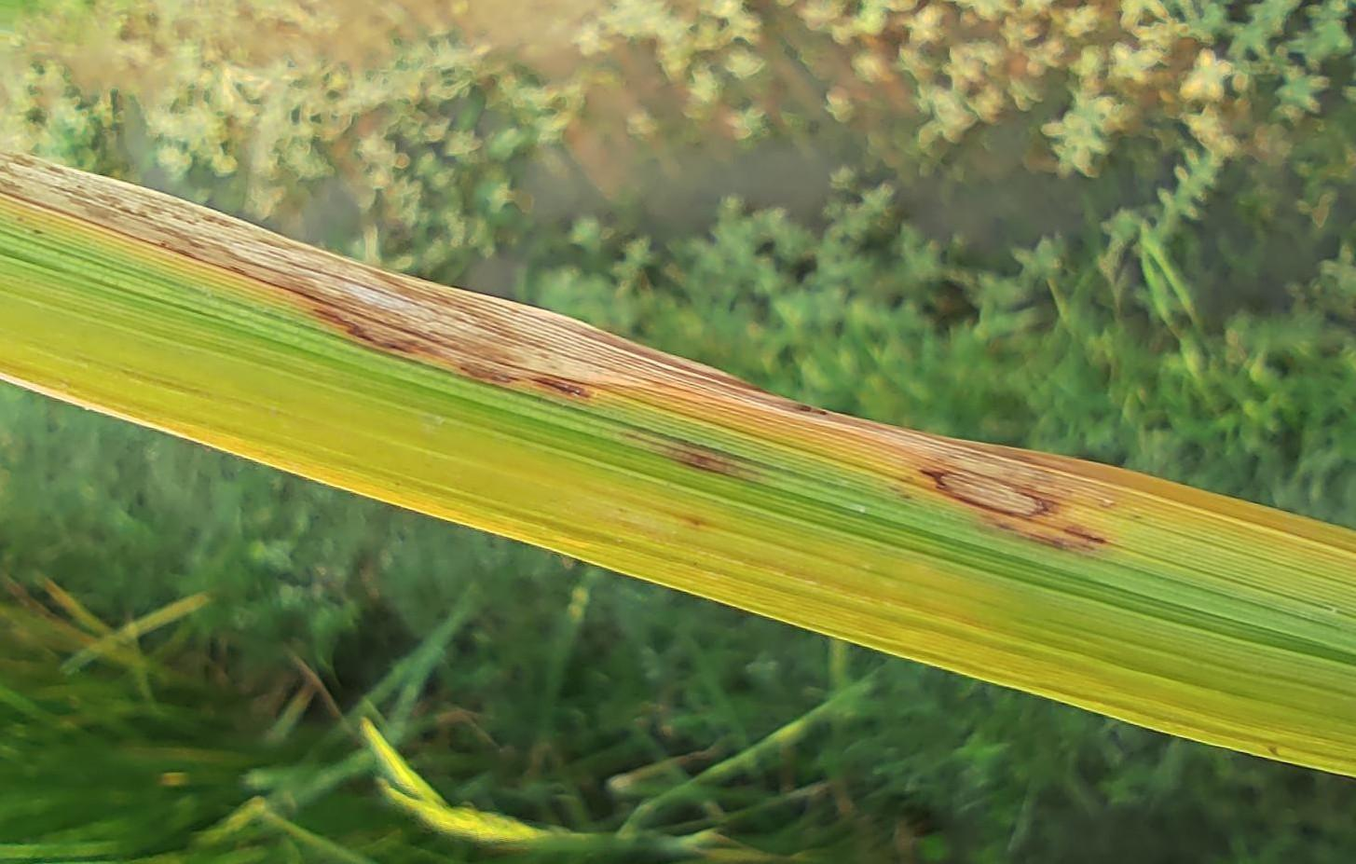LEAF: (0, 153, 1355, 775)
LEAF BLAST: (920, 468, 1051, 516), (1066, 525, 1108, 545), (1050, 536, 1090, 549)
